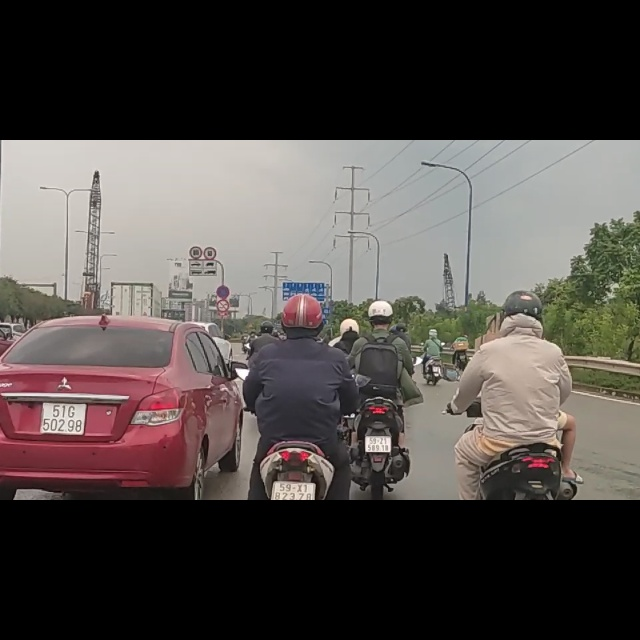bien_chi_dan: (215, 257, 230, 282)
